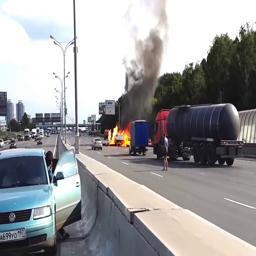fire: (109, 122, 131, 146)
